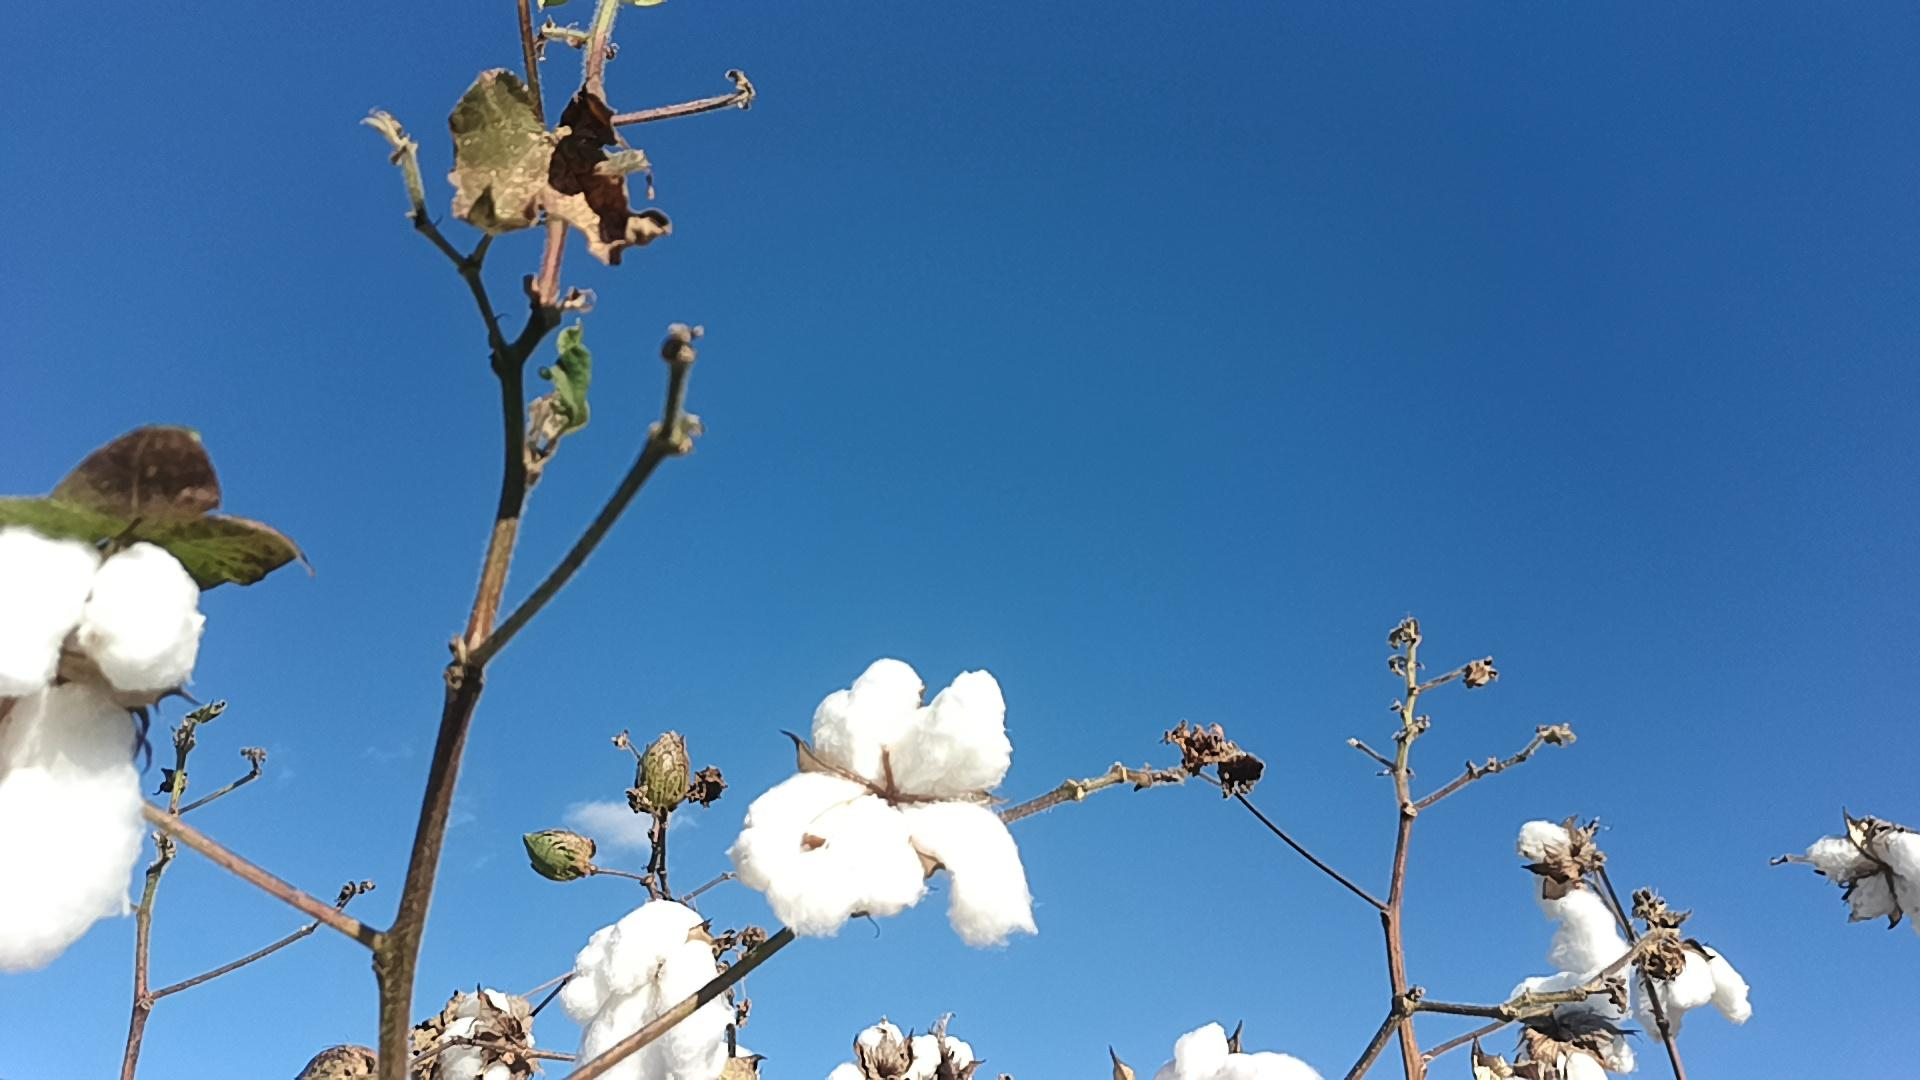cotton_ready: (733, 647, 1038, 951), (0, 524, 208, 961), (1502, 815, 1760, 1033), (564, 903, 738, 1072), (1803, 815, 1920, 907), (434, 984, 535, 1080), (825, 1023, 981, 1080), (1172, 1026, 1328, 1080)
